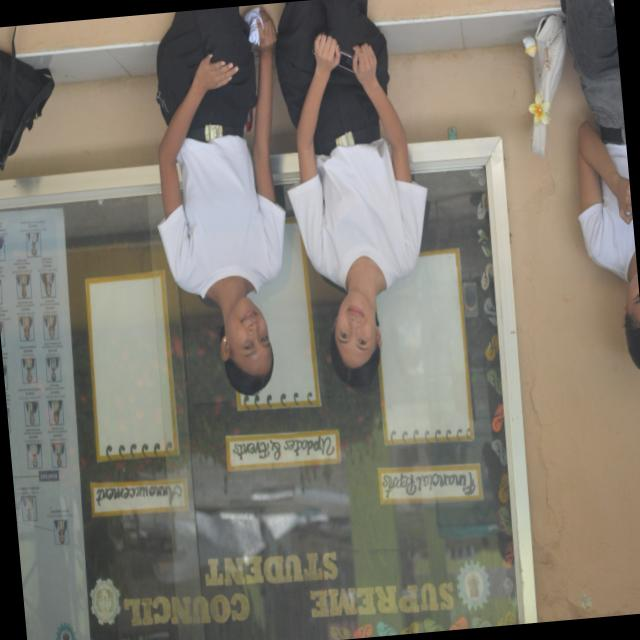person: (275, 0, 426, 387), (156, 7, 284, 394), (560, 0, 639, 368), (15, 273, 30, 297), (50, 442, 64, 466), (47, 399, 61, 423), (42, 314, 56, 338), (26, 443, 40, 467), (40, 272, 54, 295), (18, 316, 32, 339), (21, 495, 34, 519), (26, 231, 39, 255), (54, 519, 67, 543), (21, 358, 34, 381), (24, 401, 37, 424), (46, 357, 58, 380), (0, 236, 3, 247)
